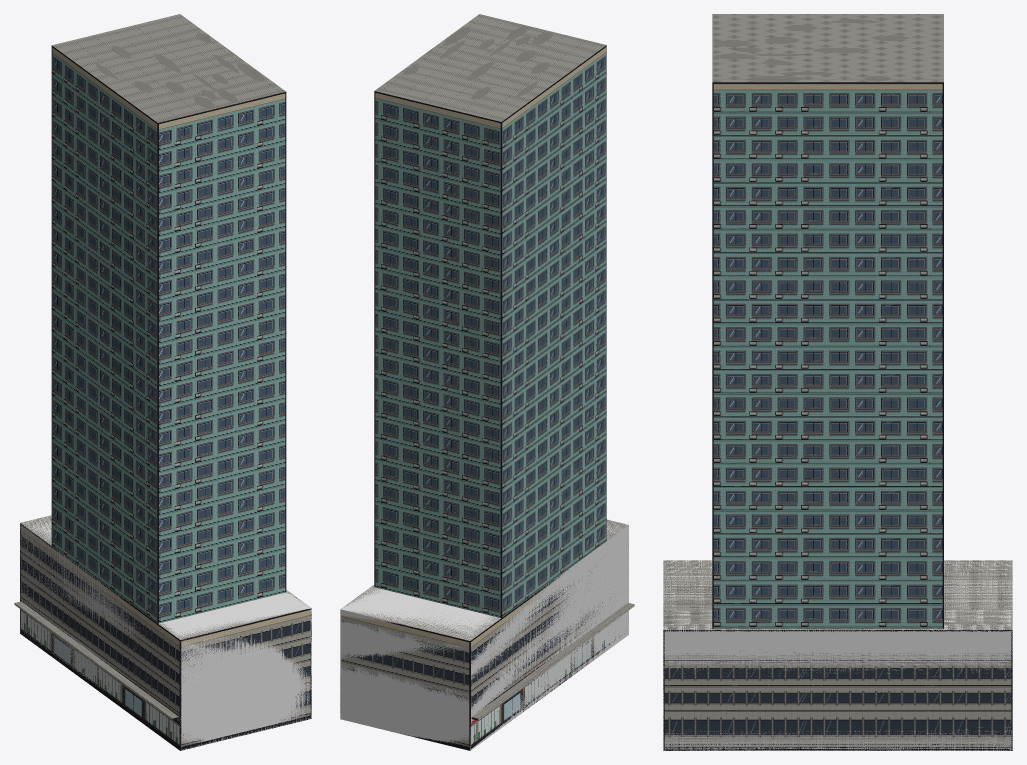
The picture shows the model from 3 angles, left to right: view 1: azimuth 30°, elevation 25°; view 2: azimuth 150°, elevation 25°; view 3: azimuth 270°, elevation 25°; orthographic projection. The views are drawn at different scales.
Visible parts, largest first — view 1: 19D-E04, COL_19D-E04_0; view 2: 19D-E04, COL_19D-E04_0; view 3: 19D-E04, COL_19D-E04_0.
Boxes of the visible parts, <box> form: 19D-E04: <box>14,14,311,750</box>; COL_19D-E04_0: <box>20,515,311,749</box>; 19D-E04: <box>340,14,634,750</box>; COL_19D-E04_0: <box>340,520,628,750</box>; 19D-E04: <box>663,14,1012,750</box>; COL_19D-E04_0: <box>663,560,1012,750</box>.
Size of the model in its own units: 20.2 by 85.5 by 40.6.
Materials: 1 (1 with a texture image).
